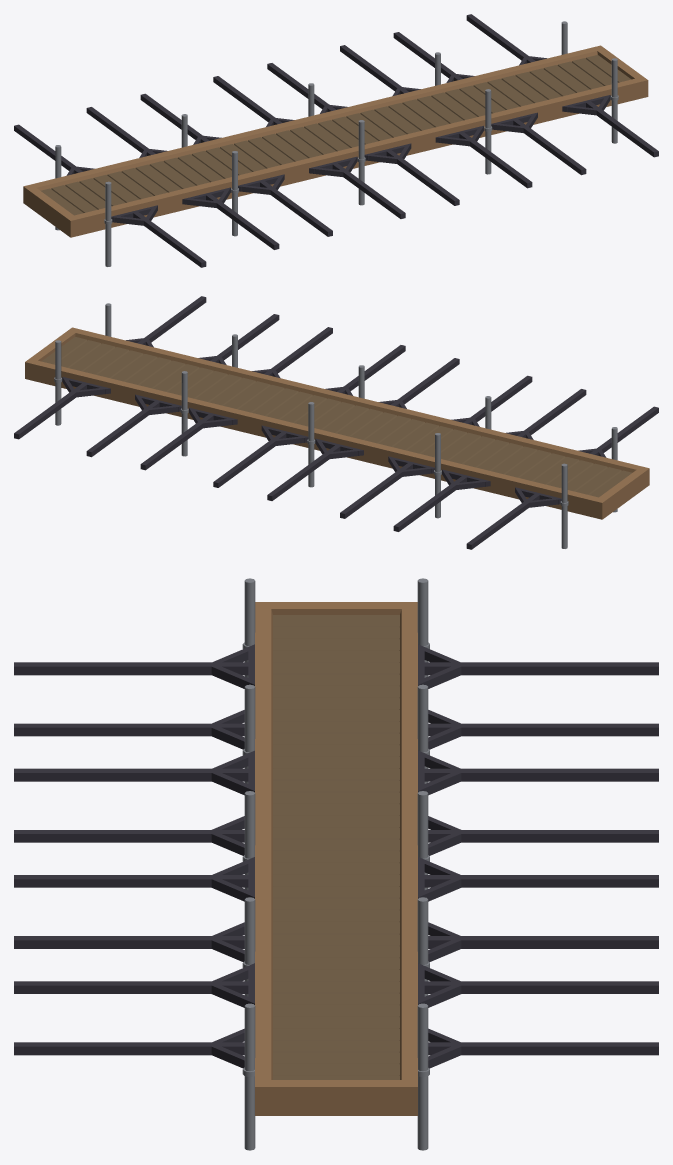
Rendered from moringdock.fbx.
The picture shows the model from 3 angles, top to bottom: view 1: azimuth 30°, elevation 25°; view 2: azimuth 150°, elevation 25°; view 3: azimuth 270°, elevation 25°; orthographic projection. The views are drawn at different scales.
Parts seen in each view (by area): view 1: Box009, Object004, Box009.001, Box010, Cylinder005, Cylinder006; view 2: Box009, Object004, Box010, Box009.001, Cylinder006, Cylinder005; view 3: Box009, Box009.001, Box010, Object004, Cylinder005, Cylinder006.
Boxes of the visible parts, x1,y1,x2,y2 form: Box009: [40, 55, 631, 215]; Object004: [23, 45, 648, 237]; Box009.001: [111, 95, 658, 267]; Box010: [14, 14, 546, 175]; Cylinder005: [104, 58, 618, 266]; Cylinder006: [55, 21, 567, 230]; Box009: [41, 337, 632, 497]; Object004: [25, 327, 649, 519]; Box010: [14, 377, 561, 549]; Box009.001: [126, 296, 658, 457]; Cylinder006: [54, 340, 568, 548]; Cylinder005: [105, 303, 617, 512]; Box009: [273, 615, 399, 1079]; Box009.001: [14, 644, 254, 1068]; Box010: [418, 644, 658, 1068]; Object004: [255, 602, 417, 1115]; Cylinder005: [242, 578, 255, 1150]; Cylinder006: [417, 578, 429, 1150].
Size of the model in its own units: 7559 by 1037 by 4250.
